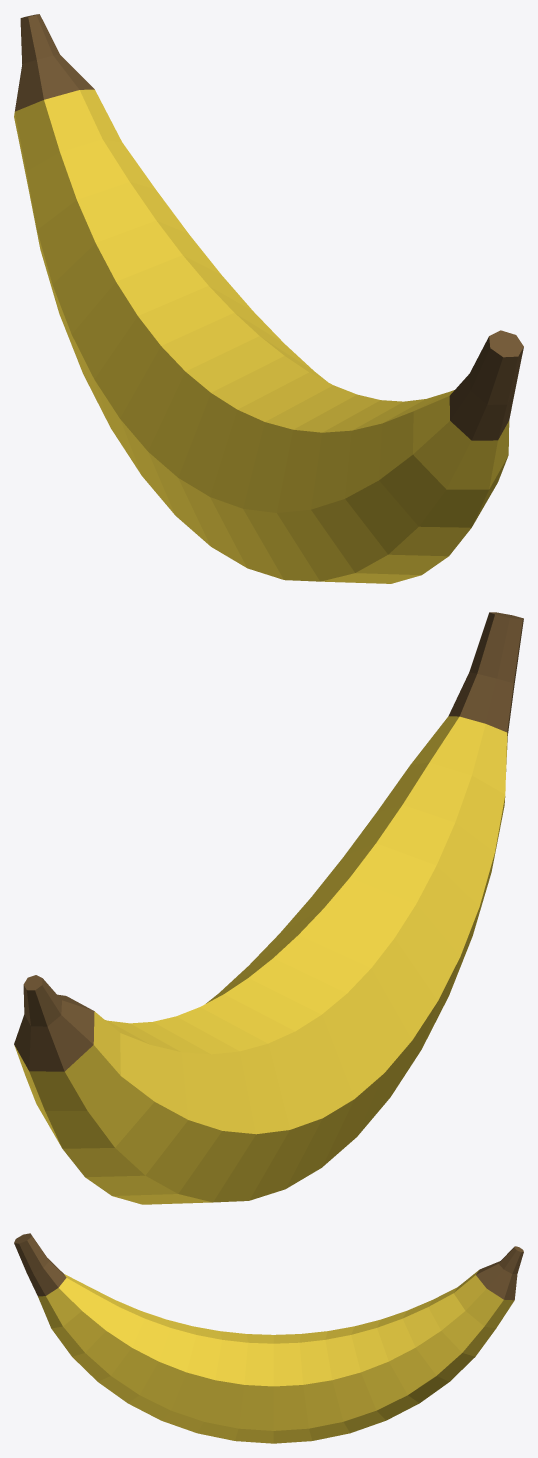
File: banana.glb
3 renders of one model, top to bottom at view 1: azimuth 30°, elevation 25°; view 2: azimuth 150°, elevation 25°; view 3: azimuth 270°, elevation 25°, orthographic. The views are drawn at different scales.
Parts seen in each view (by area): view 1: banana; view 2: banana; view 3: banana.
Boxes of the visible parts, x1,y1,x2,y2 form: banana: [14, 14, 523, 583]; banana: [14, 612, 523, 1204]; banana: [14, 1233, 523, 1443].
Bounding box in the file's own units: 0.1901 × 0.4291 × 0.9737.
